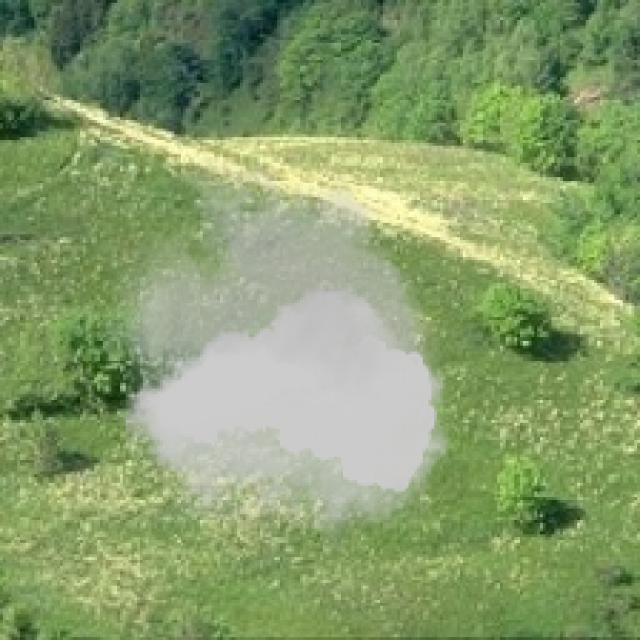Smoke: (103, 137, 460, 563)
